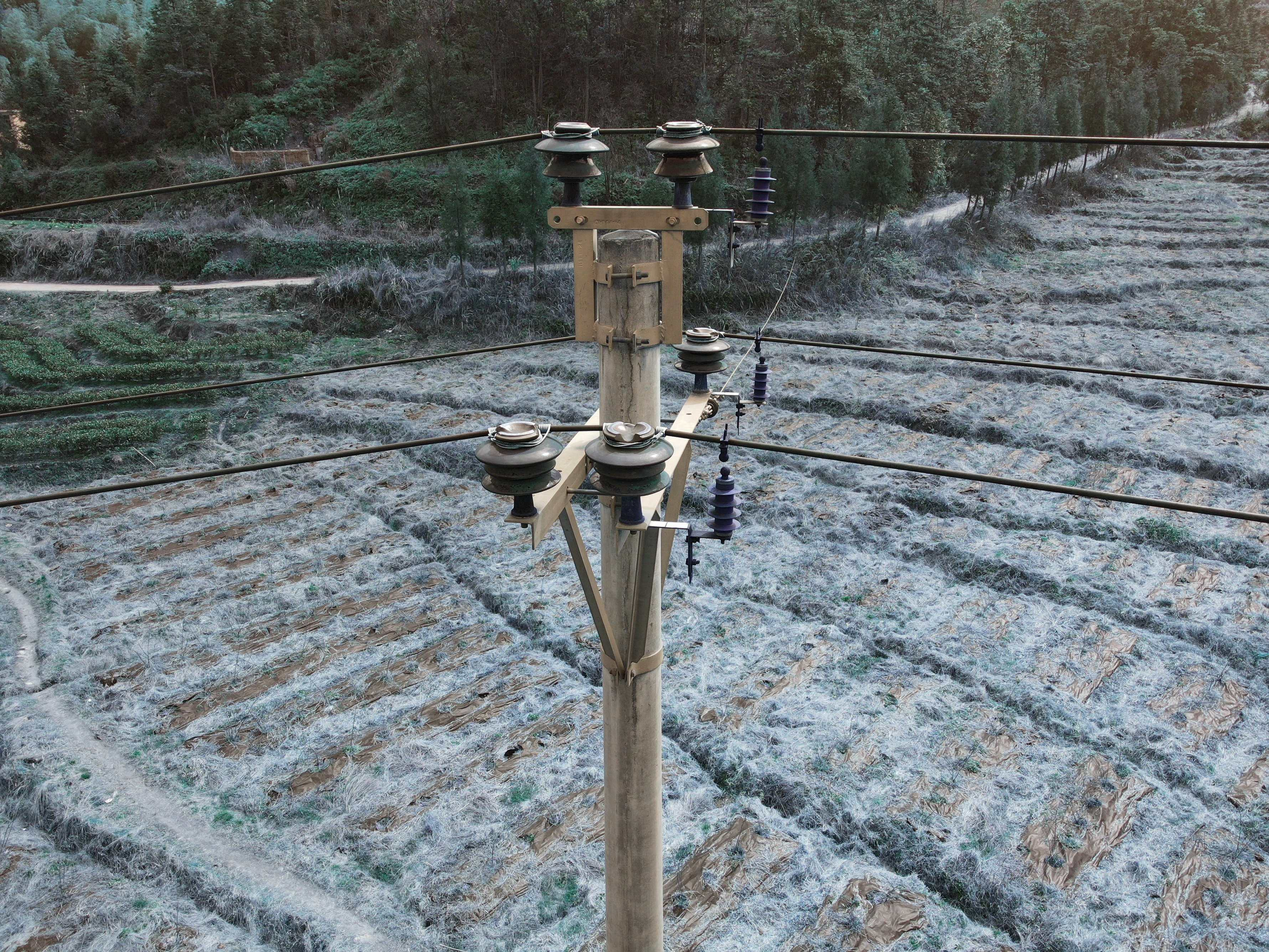severe_soiling_no_discharge_whole: (470, 419, 566, 496), (582, 418, 673, 496), (671, 327, 733, 375)
